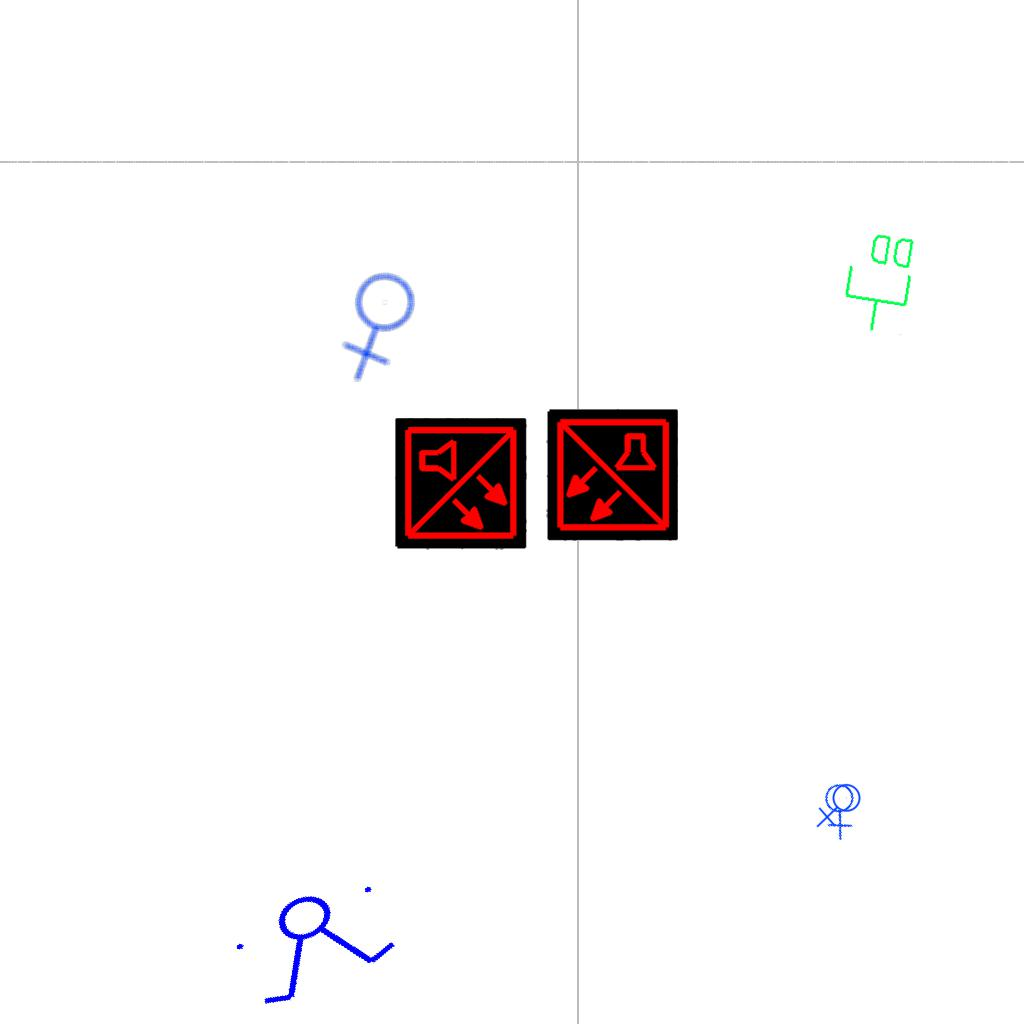Datenanschluss_zweifach: (837, 226, 922, 339)
Elektroanschluss_allgemein_230V_Geraeteanschlussdose_230V: (316, 259, 447, 387), (807, 774, 876, 843), (816, 783, 865, 830)
OKW_Multisensormelder_(Kombination_optischer_Rauch-Kahlenmonoxid_Waerme-Melder): (546, 409, 678, 541), (395, 418, 527, 550)
Serienschalter: (219, 862, 413, 1020)
